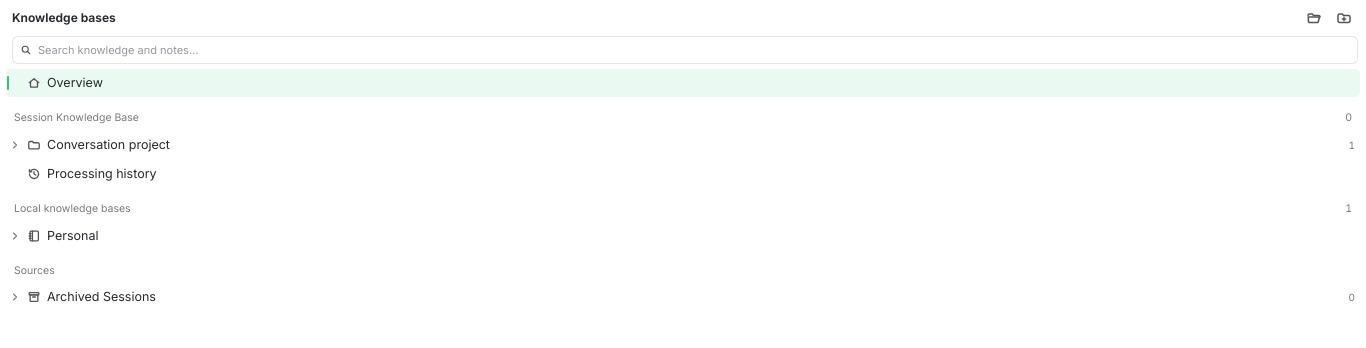
Test: expands multiple root folders inline without navigating away from the current content
Click the button named "Personal" at (15, 236), box [9,222,21,250]
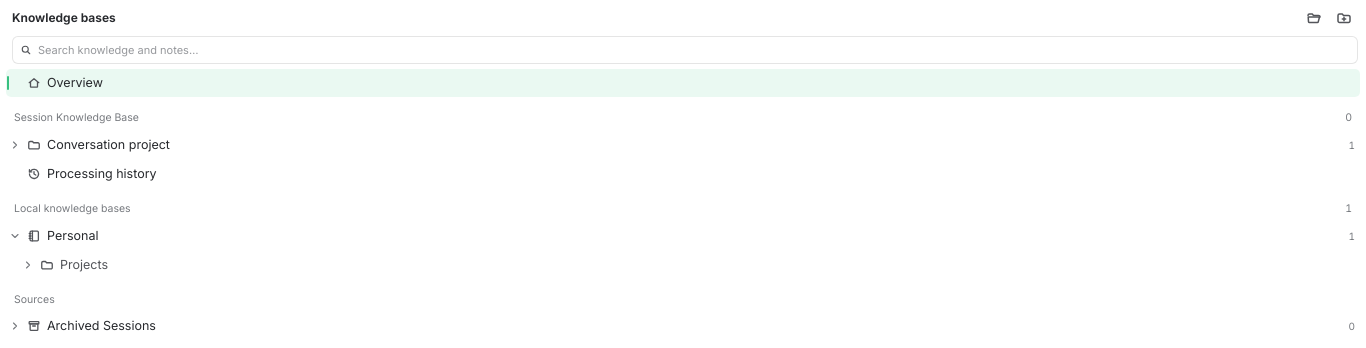
Expected: the link "Conversation project 1" is shown, [27,137,1355,152]
Result: the link "Projects" is shown at [40,256,108,272]
Result: the button named "Personal" is expanded
Click the button named "Personal" at (15, 236), box [9,222,21,250]
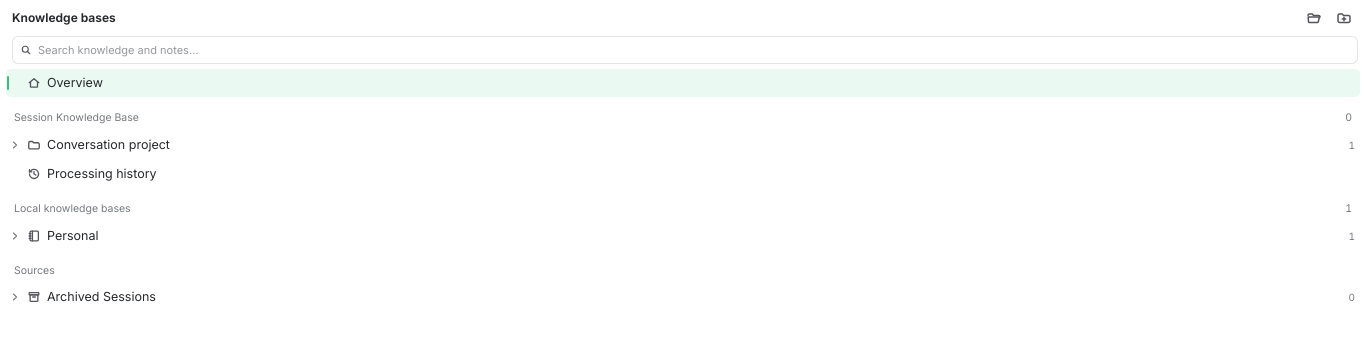
Expected: the link "Conversation project 1" is shown, [27,137,1355,152]
Result: the link "Projects" is gone
